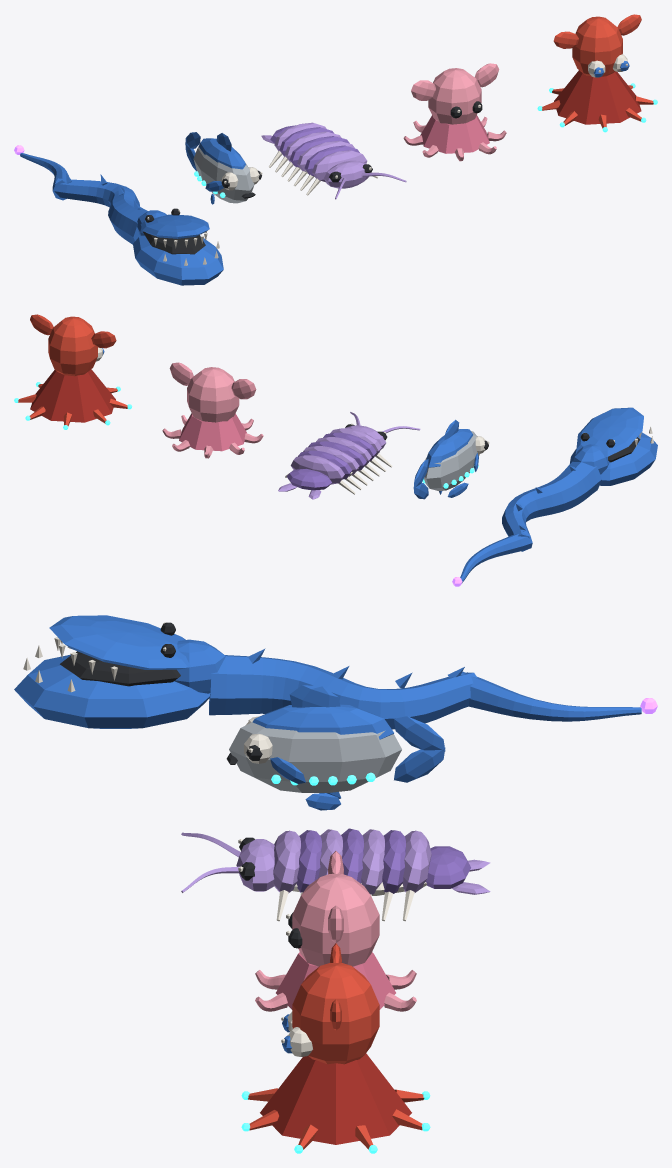
File: deep-sea-creatures.glb
3 renders of one model, top to bottom at view 1: azimuth 30°, elevation 25°; view 2: azimuth 150°, elevation 25°; view 3: azimuth 270°, elevation 25°, orthographic. The views are drawn at different scales.
Parts seen in each view (by area): view 1: VampireSquid_Body, GulperEel_Body, DumboOctopus_Body, GiantIsopod_Body, Lanternfish_Body, GulperEel_Jaw, GulperEel_Tail, DumboOctopus_Ear_L, DumboOctopus_Ear_R; view 2: GulperEel_Body, VampireSquid_Body, DumboOctopus_Body, GiantIsopod_Body, Lanternfish_Body, GulperEel_Jaw, GulperEel_Tail, Lanternfish_TailFin, DumboOctopus_Ear_L; view 3: GulperEel_Body, VampireSquid_Body, Lanternfish_Body, GiantIsopod_Body, DumboOctopus_Body, GulperEel_Jaw, GulperEel_Tail, Lanternfish_TailFin.
Part boxes in pixels (box(x1,y1,x2,y2)): VampireSquid_Body: box(537, 16, 657, 132); GulperEel_Body: box(54, 173, 209, 254); DumboOctopus_Body: box(403, 68, 506, 161); GiantIsopod_Body: box(261, 122, 377, 195); Lanternfish_Body: box(193, 133, 262, 204); GulperEel_Jaw: box(133, 235, 223, 285); GulperEel_Tail: box(14, 145, 68, 200); DumboOctopus_Ear_L: box(411, 80, 435, 100); DumboOctopus_Ear_R: box(474, 63, 499, 87); GulperEel_Body: box(502, 407, 643, 551); VampireSquid_Body: box(14, 316, 132, 429); DumboOctopus_Body: box(162, 367, 263, 458); GiantIsopod_Body: box(278, 423, 392, 499); Lanternfish_Body: box(422, 419, 489, 497); GulperEel_Jaw: box(570, 426, 657, 485); GulperEel_Tail: box(452, 530, 532, 586); Lanternfish_TailFin: box(413, 459, 428, 499); DumboOctopus_Ear_L: box(231, 379, 256, 399); GulperEel_Body: box(49, 615, 477, 729); VampireSquid_Body: box(241, 963, 430, 1153); Lanternfish_Body: box(226, 685, 401, 810); GiantIsopod_Body: box(236, 828, 490, 921); DumboOctopus_Body: box(255, 874, 416, 1011); GulperEel_Jaw: box(14, 645, 210, 728); GulperEel_Tail: box(461, 671, 657, 721); Lanternfish_TailFin: box(394, 716, 445, 782).
Size of the model in its own units: 20.91 by 3.15 by 12.26.
